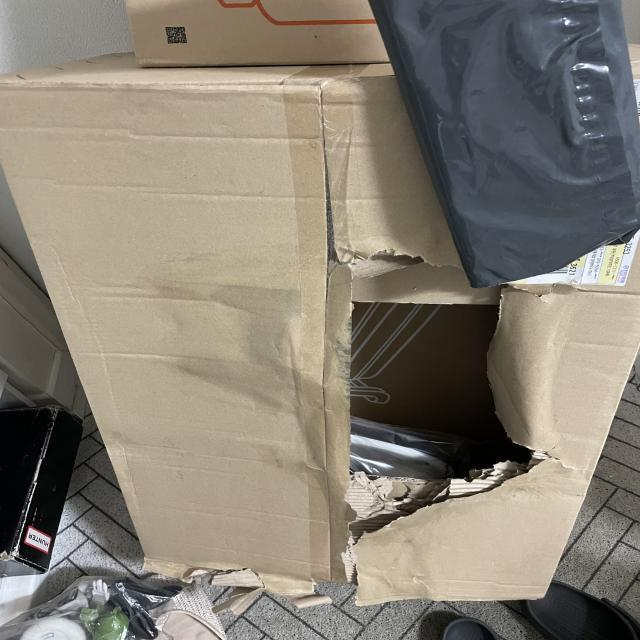hole: (334, 259, 556, 536)
